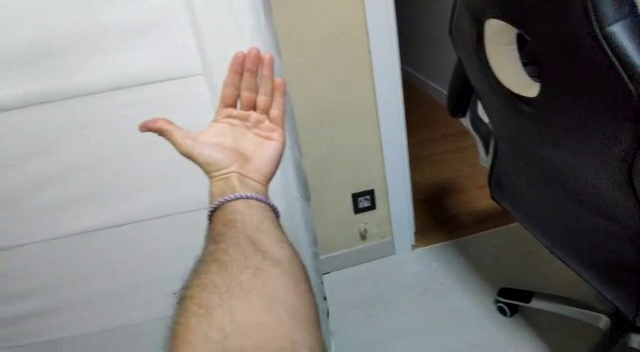Palm: (133, 45, 292, 187)
